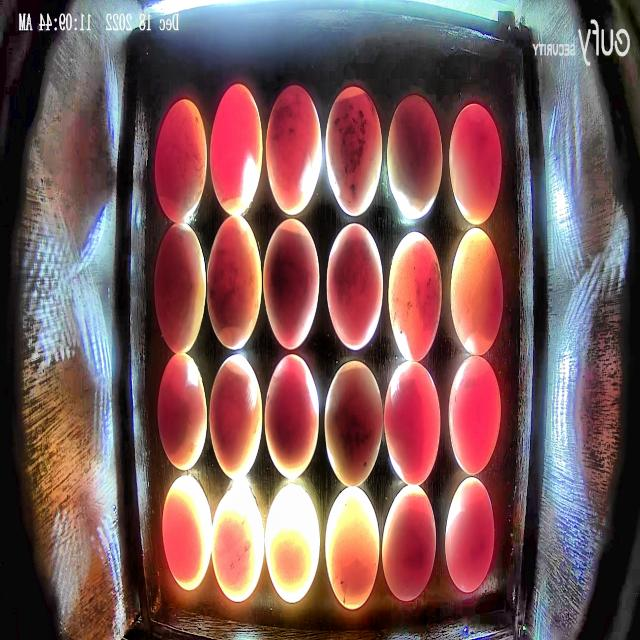DE: (212, 484, 264, 602), (162, 474, 213, 590)
FE: (325, 84, 383, 218), (265, 83, 323, 215), (326, 220, 384, 351), (263, 217, 320, 350), (206, 216, 262, 350), (388, 230, 444, 362), (209, 81, 263, 217), (324, 361, 382, 487), (384, 360, 441, 486), (154, 221, 207, 355), (450, 226, 505, 355), (264, 354, 320, 480), (387, 95, 443, 219), (208, 354, 263, 479), (154, 98, 208, 224), (382, 485, 437, 603), (448, 354, 501, 475), (449, 103, 501, 225), (157, 352, 208, 471), (445, 475, 494, 594)
UF: (324, 486, 380, 612), (264, 480, 321, 603)
